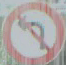Don't turn left: (7, 3, 58, 59)
